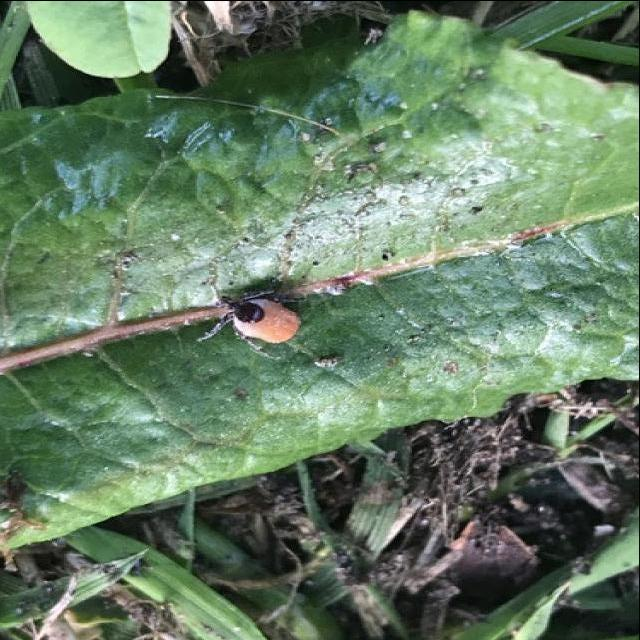Ixodes Ricinus-F-Fed: (198, 292, 305, 353)
